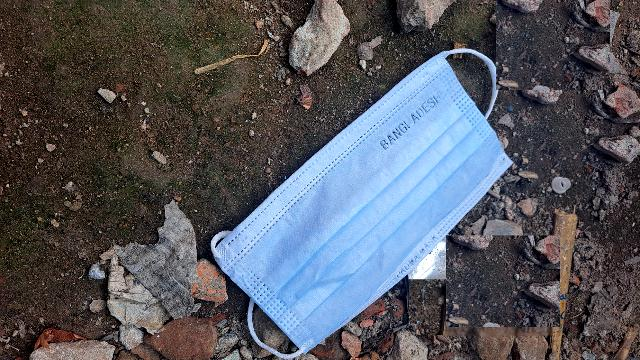mask: (197, 36, 551, 360)
